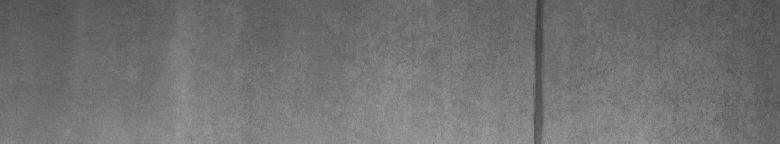hd: (528, 4, 550, 136)
